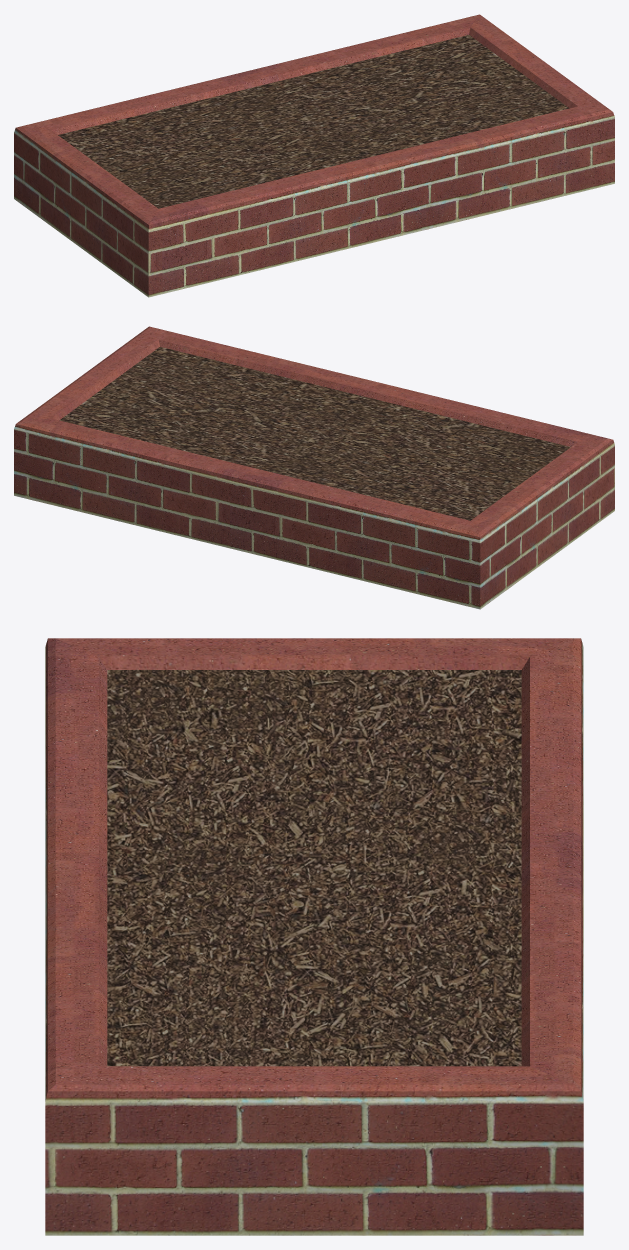
The model's file is flower_bed_g.FBX.
3 views of the same model, one above another, from view 1: azimuth 30°, elevation 25°; view 2: azimuth 150°, elevation 25°; view 3: azimuth 270°, elevation 25° (orthographic). The views are drawn at different scales.
Visible parts, largest first — view 1: flower_bed_g; view 2: flower_bed_g; view 3: flower_bed_g.
Boxes of the visible parts, box(x1,y1,x2,y2) form: flower_bed_g: box(14, 14, 614, 297); flower_bed_g: box(14, 326, 614, 609); flower_bed_g: box(45, 638, 583, 1235).
Size of the model in its own units: 200 by 30 by 100.
